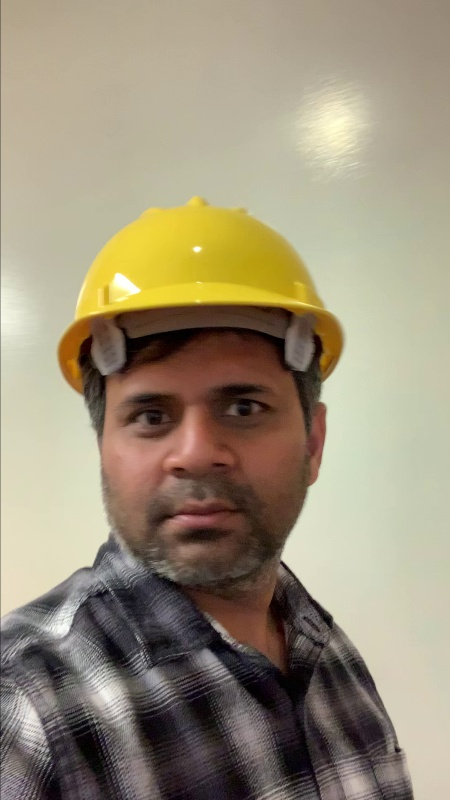helmet: (52, 189, 346, 378)
